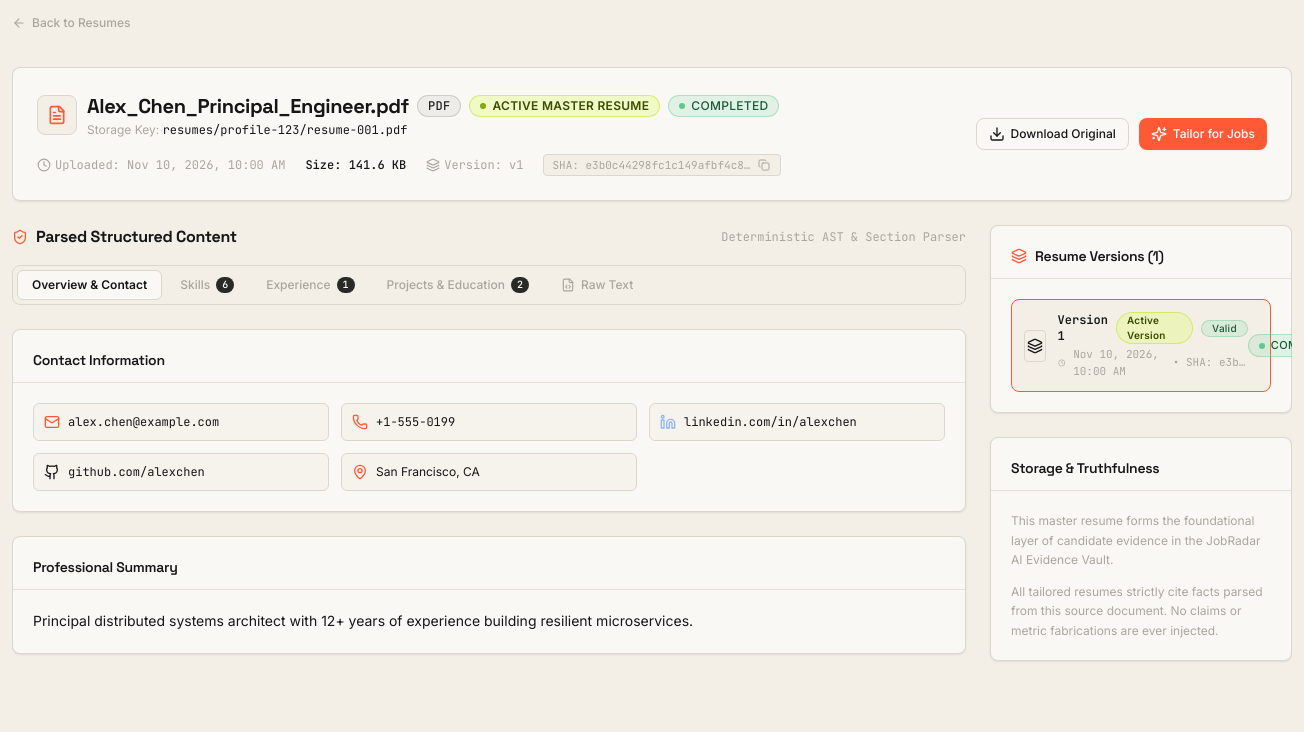
Test: ResumeDetailPage Integration › switches tabs to inspect projects and education
This screenshot has width=1304, height=732.
Click the button "Projects & Education 2" at coordinates (458, 285), box x1=373 y1=271 x2=543 y2=299
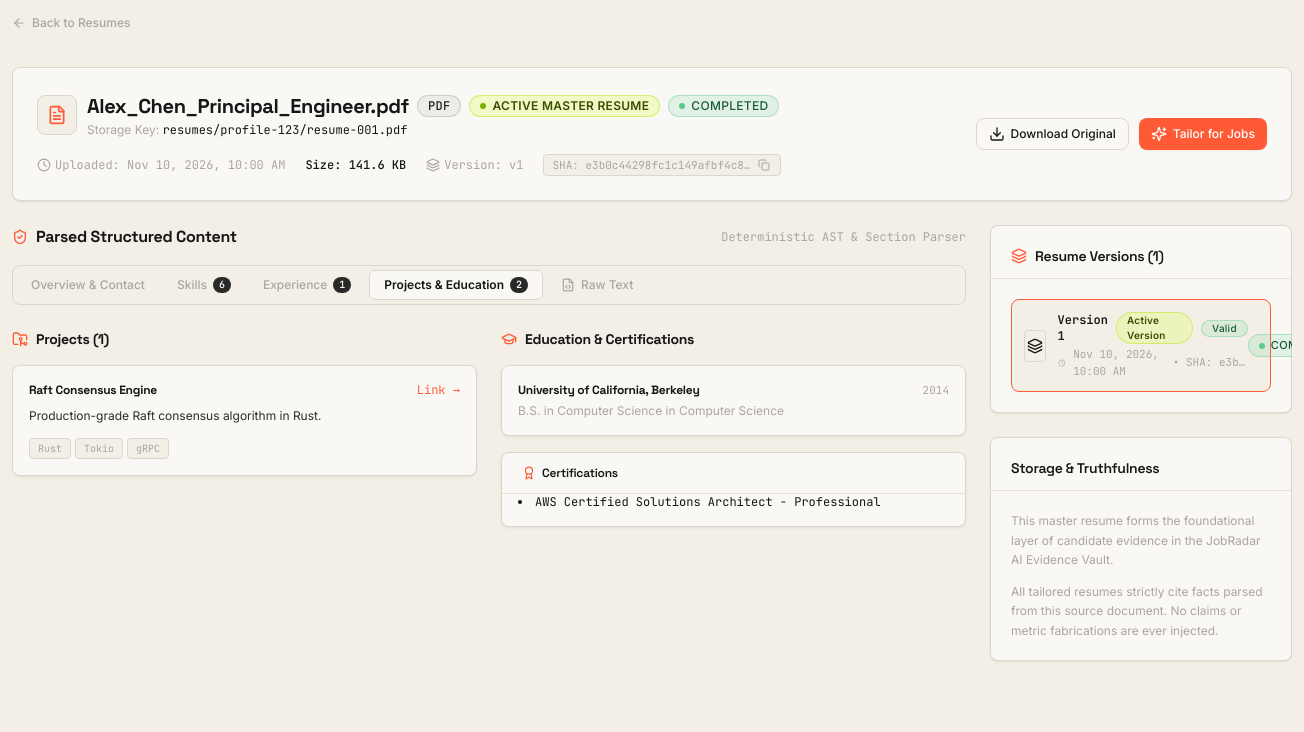
Check: the heading "Raft Consensus Engine" is shown, box x1=29 y1=382 x2=157 y2=398
Check: the heading "University of California, Berkeley" is shown, box x1=518 y1=382 x2=700 y2=398
Check: the list item "AWS Certified Solutions Architect - Professional" is shown, box x1=535 y1=494 x2=881 y2=510
